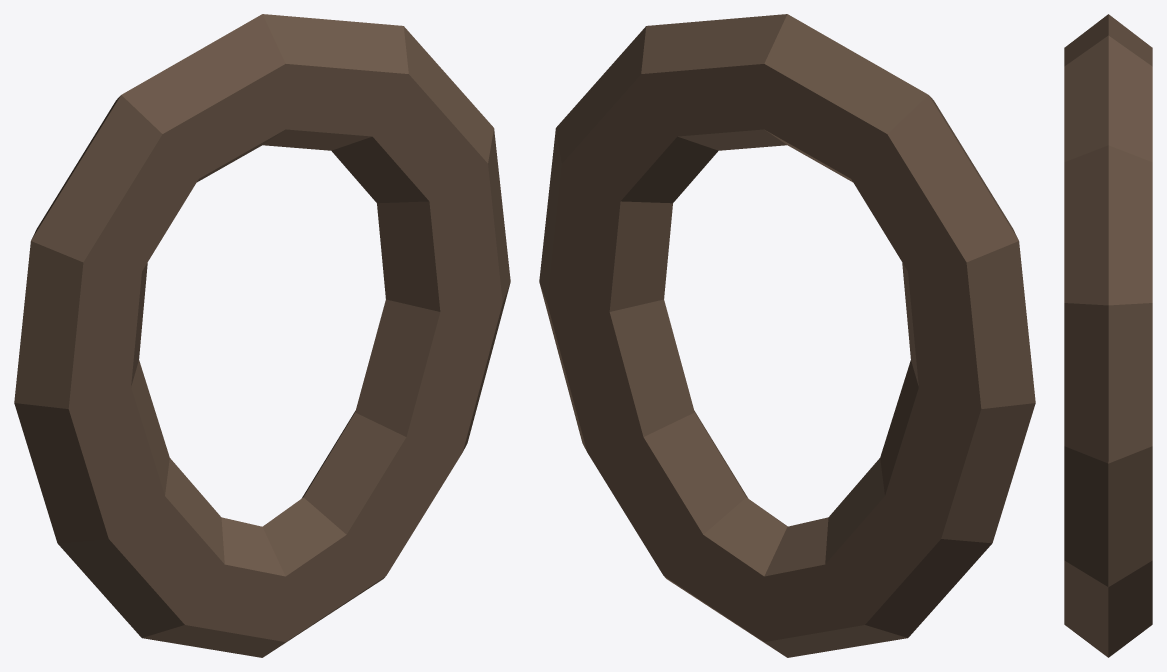
File: prop-horse-collar-pad.fbx
The picture shows the model from 3 angles, left to right: view 1: azimuth 30°, elevation 25°; view 2: azimuth 150°, elevation 25°; view 3: azimuth 270°, elevation 25°; orthographic projection. The views are drawn at different scales.
Visible parts, largest first — view 1: prop-horse-collar-pad; view 2: prop-horse-collar-pad; view 3: prop-horse-collar-pad.
Part boxes in pixels (x1,y1,x2,y2): prop-horse-collar-pad: (14, 14, 510, 657); prop-horse-collar-pad: (539, 14, 1035, 657); prop-horse-collar-pad: (1064, 14, 1152, 657).
Bounding box in the file's own units: 58.78 × 72.85 × 9.53.
